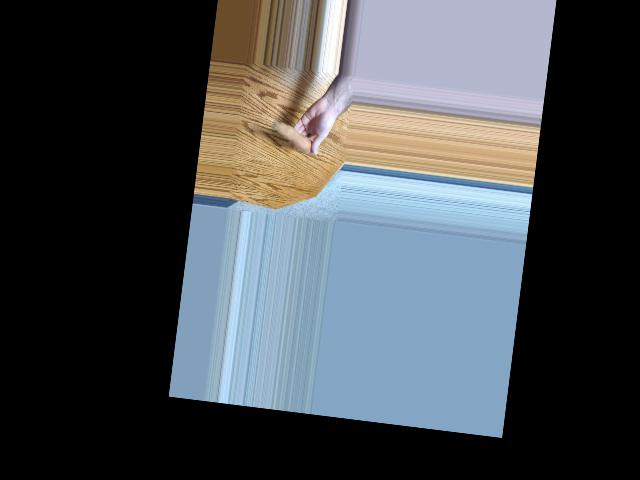sweet_potato: (267, 116, 323, 157)
